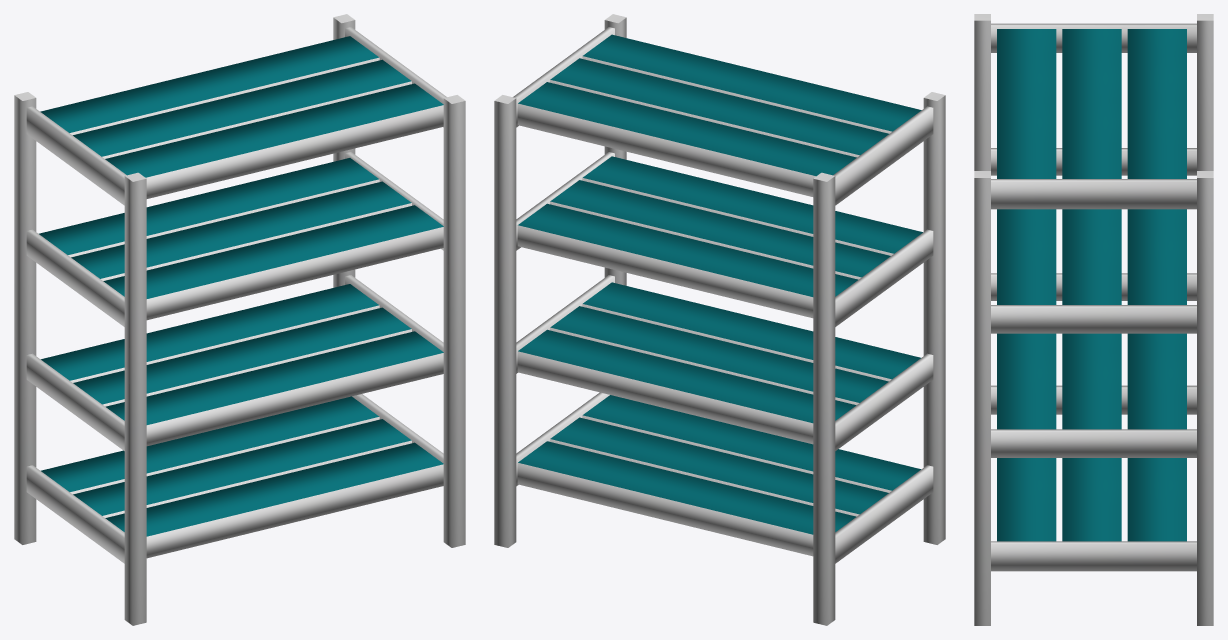
The model's file is EstanteLab 1.fbx.
3 views of the same model, side by side, from view 1: azimuth 30°, elevation 25°; view 2: azimuth 150°, elevation 25°; view 3: azimuth 270°, elevation 25° (orthographic).
Parts seen in each view (by area): view 1: EstanteLab; view 2: EstanteLab; view 3: EstanteLab.
Part boxes in pixels (x1,y1,x2,y2): EstanteLab: [14, 14, 465, 625]; EstanteLab: [494, 14, 945, 625]; EstanteLab: [974, 14, 1213, 625].
Bounding box in the file's own units: 97.38 × 124 × 60.13.
